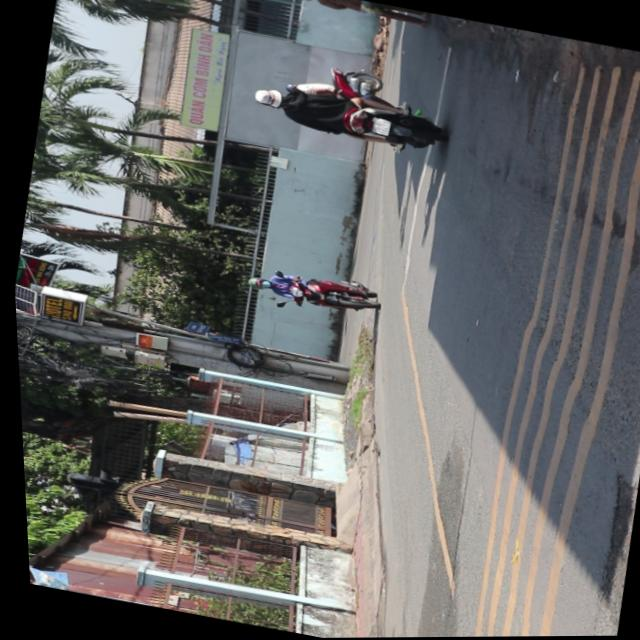licenseplate: (244, 73, 447, 162)
motorcyclist: (250, 86, 286, 111)
nohelmet: (369, 118, 390, 137)
